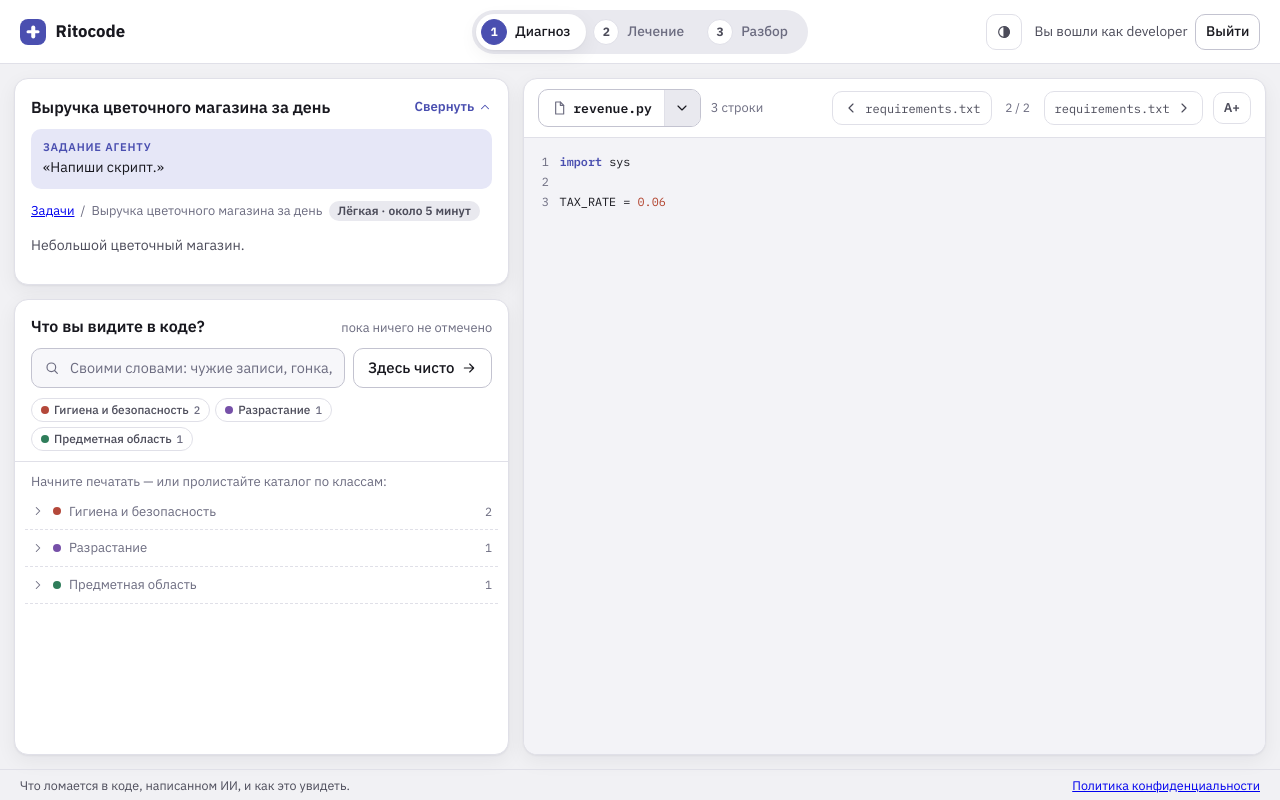
Test case: the task screen › checks an answer that picked nothing
The width and height of the screenshot is (1280, 800).
Expected: the heading "Выручка цветочного магазина за день" is shown, [31,95,330,119]
Click the button "Здесь чисто" at (422, 368), box [353,348,492,388]
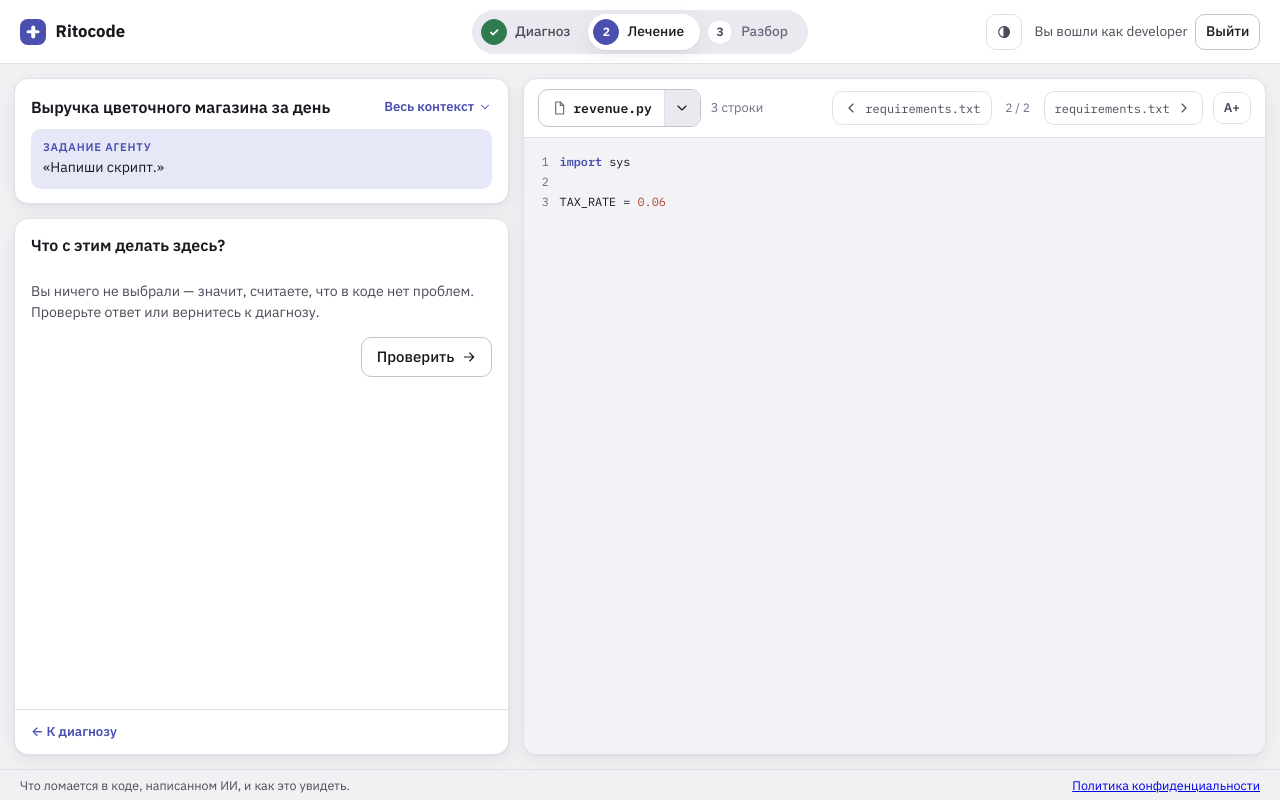
Expected: the button "Проверить" is enabled, [361,337,492,377]
Expected: the text "Вы ничего не выбрали — значит, считаете, что в коде нет проблем. Проверьте ответ или вернитесь к диагнозу." is shown, [31,282,474,321]
